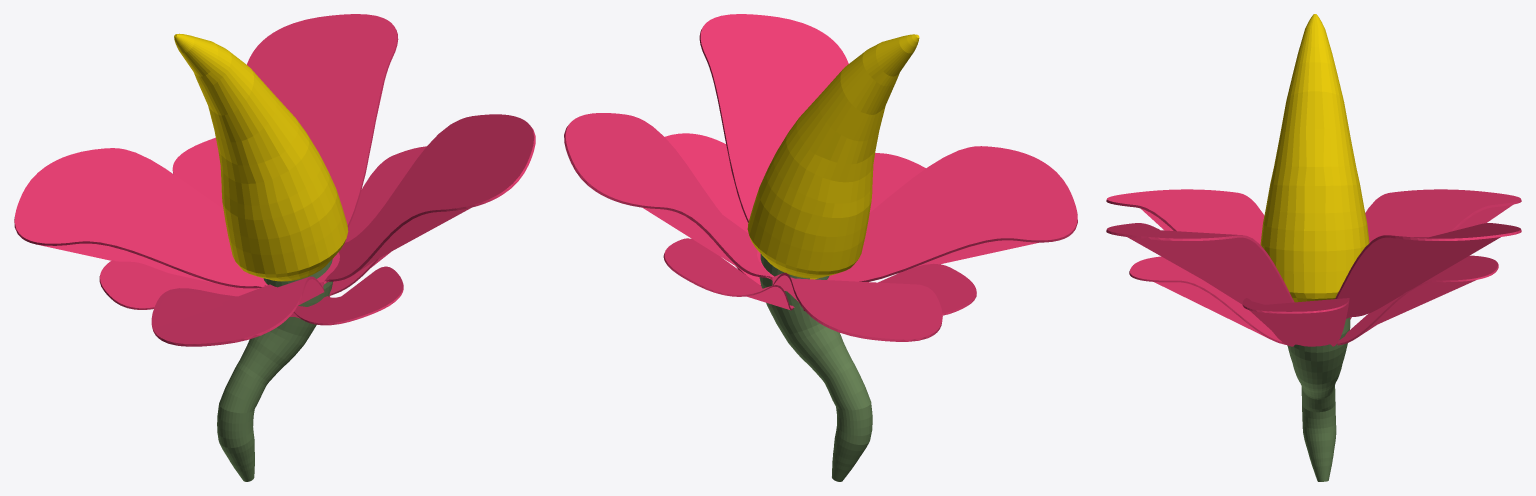
The model's file is Fleur1 .fbx.
3 renders of one model, left to right at view 1: azimuth 30°, elevation 25°; view 2: azimuth 150°, elevation 25°; view 3: azimuth 270°, elevation 25°, orthographic. The views are drawn at different scales.
Parts seen in each view (by area): view 1: Cercle.002, Cylindre.001, Cercle.003; view 2: Cercle.002, Cylindre.001, Cercle.003; view 3: Cercle.002, Cylindre.001, Cercle.003.
Part boxes in pixels (box(x1,y1,x2,y2)): Cercle.002: box(14, 14, 535, 346); Cylindre.001: box(174, 33, 348, 481); Cercle.003: box(99, 137, 426, 325); Cercle.002: box(564, 14, 1077, 341); Cylindre.001: box(747, 34, 919, 481); Cercle.003: box(663, 133, 976, 315); Cercle.002: box(1106, 189, 1521, 318); Cylindre.001: box(1260, 14, 1369, 481); Cercle.003: box(1129, 255, 1498, 346).
Bounding box in the file's own units: 483 × 586 × 508.
